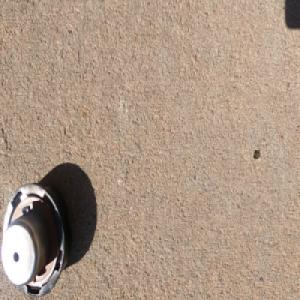FuelCap: (0, 180, 72, 299)
